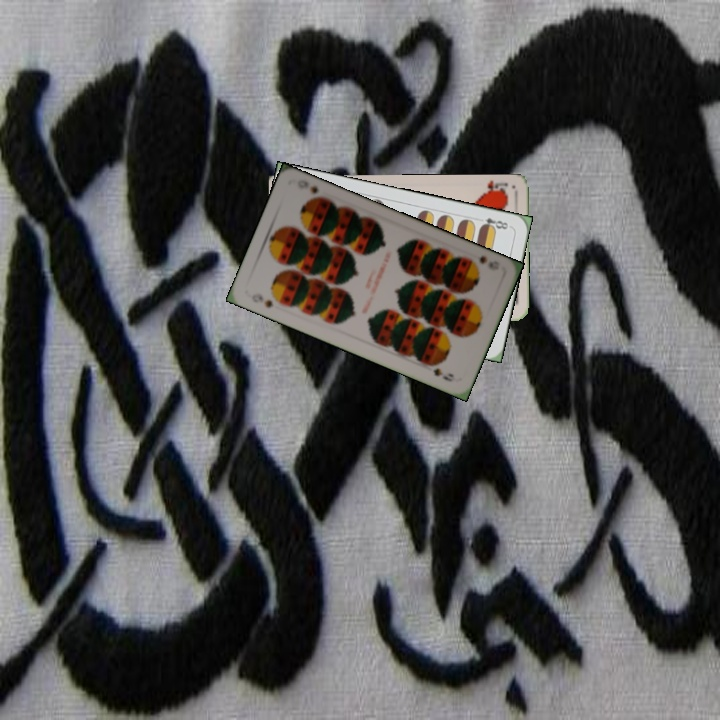E8: (474, 214, 513, 233)
HO: (478, 177, 510, 197)
S9: (247, 289, 276, 310), (464, 251, 489, 267)
